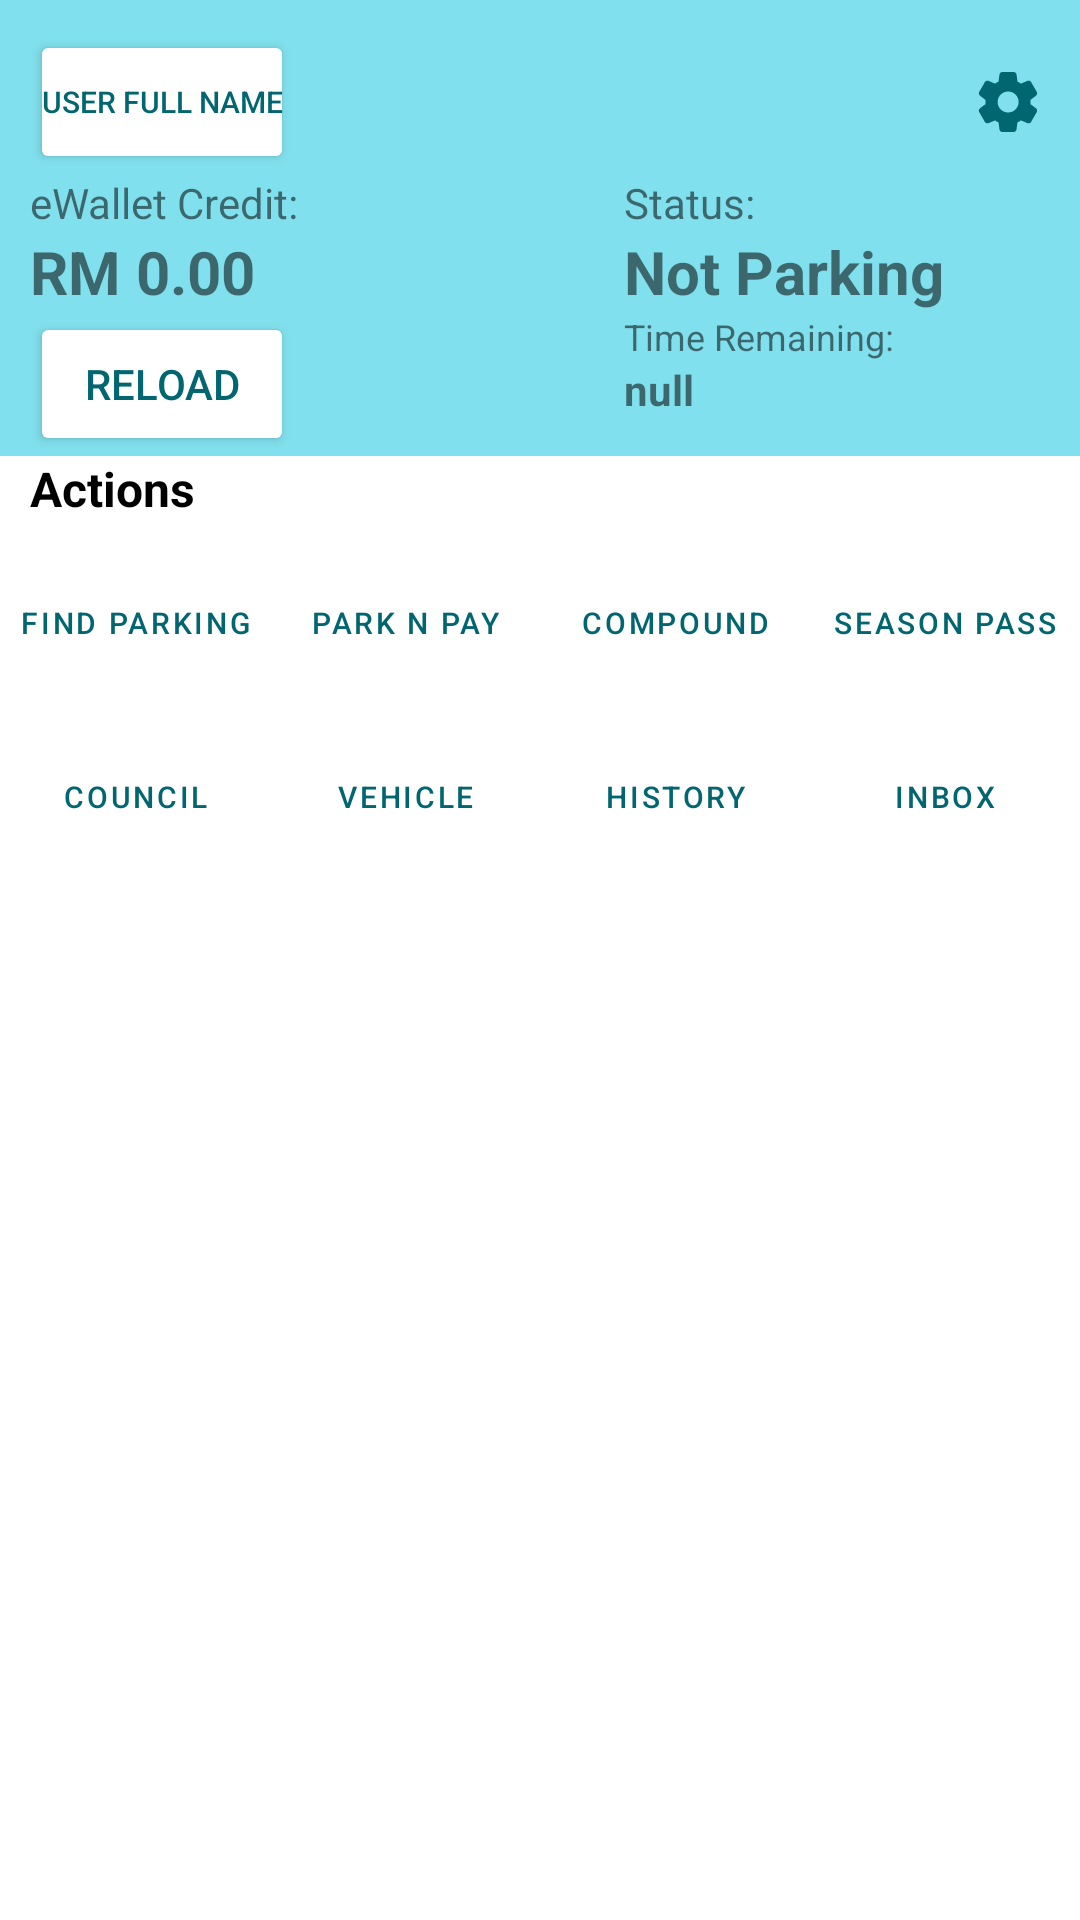

Screen size 1080x1920. Icon name, then its box in pixels as region(x1, y1, x2, y2):
settings: region(979, 72, 1037, 132)
